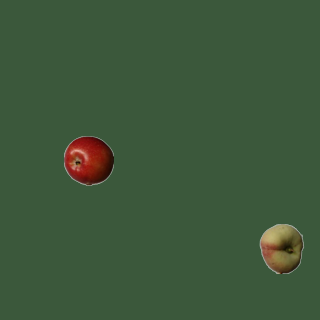Apple Braeburn: (63, 135, 113, 185)
Peach Flat: (256, 223, 306, 273)
